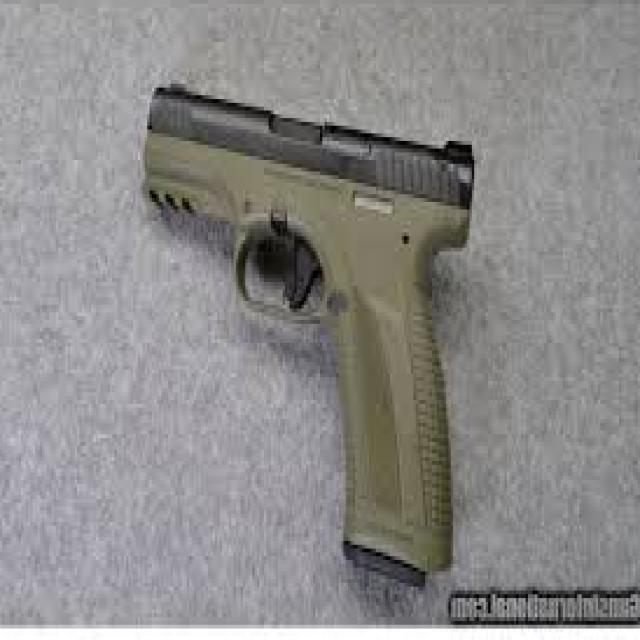Gun: (120, 71, 502, 594)
